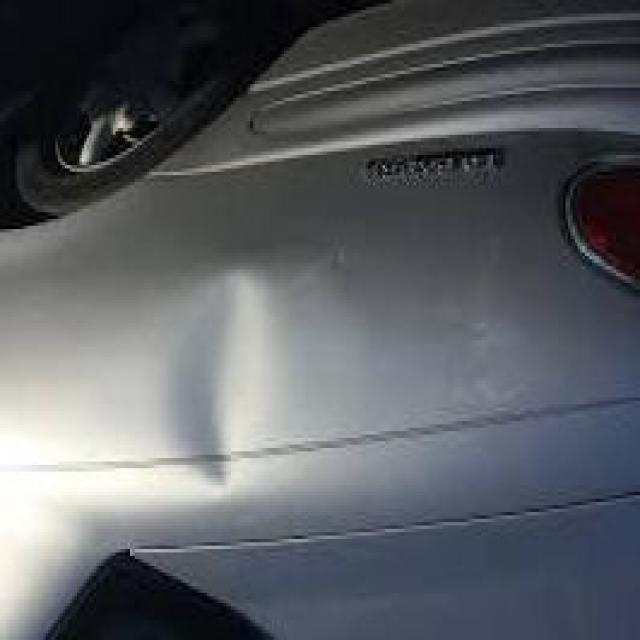dent: (154, 274, 294, 497)
